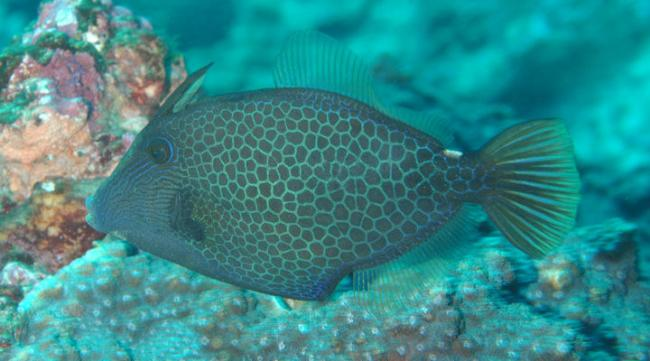fish: (84, 32, 581, 304)
